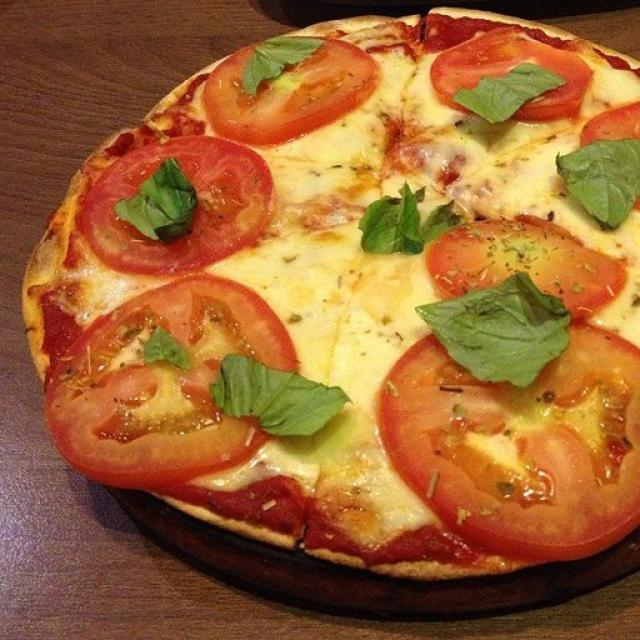Basil: (421, 278, 569, 388), (216, 350, 349, 432), (365, 189, 467, 257), (557, 142, 640, 223), (115, 171, 199, 239), (458, 65, 564, 118), (149, 330, 189, 364)
Pizza: (25, 10, 640, 584)
Tomato: (382, 322, 640, 560), (53, 279, 300, 489), (82, 141, 269, 270), (433, 215, 628, 312), (207, 40, 377, 142), (437, 32, 588, 111), (583, 104, 640, 144)
